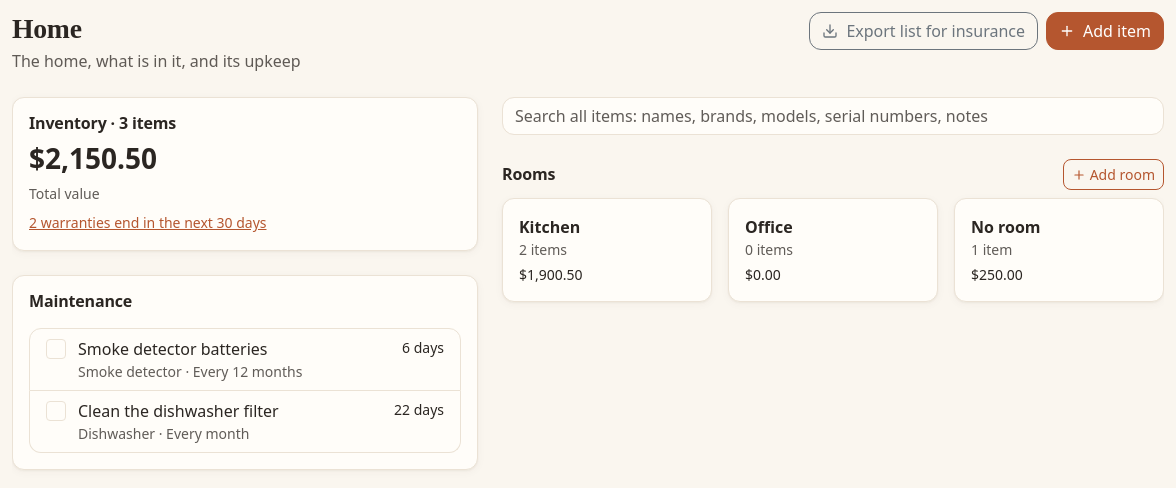
Test: HomePageComponent › for a user who can write › adds a room
The width and height of the screenshot is (1176, 488).
Click the button "Add room": {"x": 1113, "y": 175} [1063,159,1164,190]
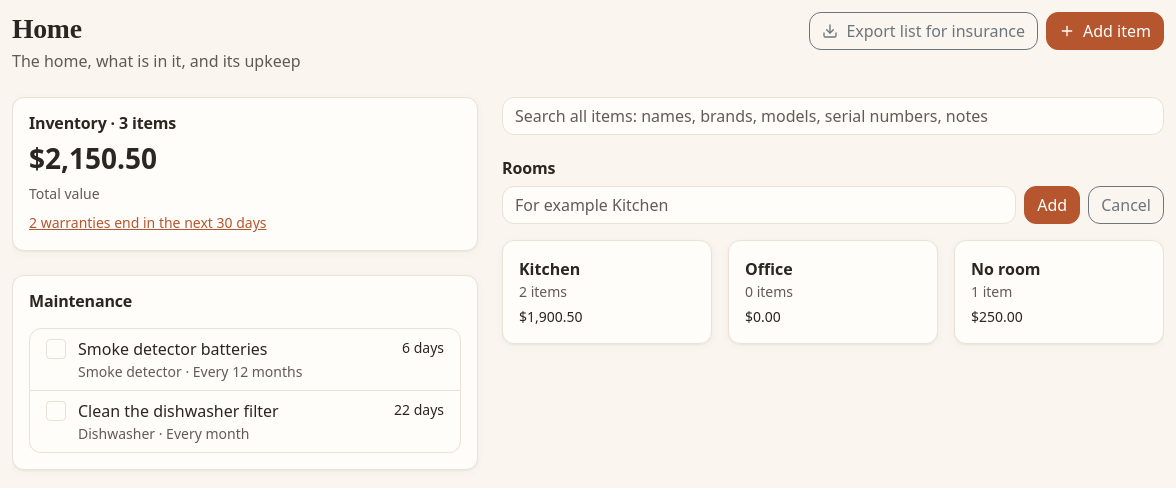
In the field with id "new-room": {"x": 759, "y": 205} [502,186,1016,224], type " Garage "
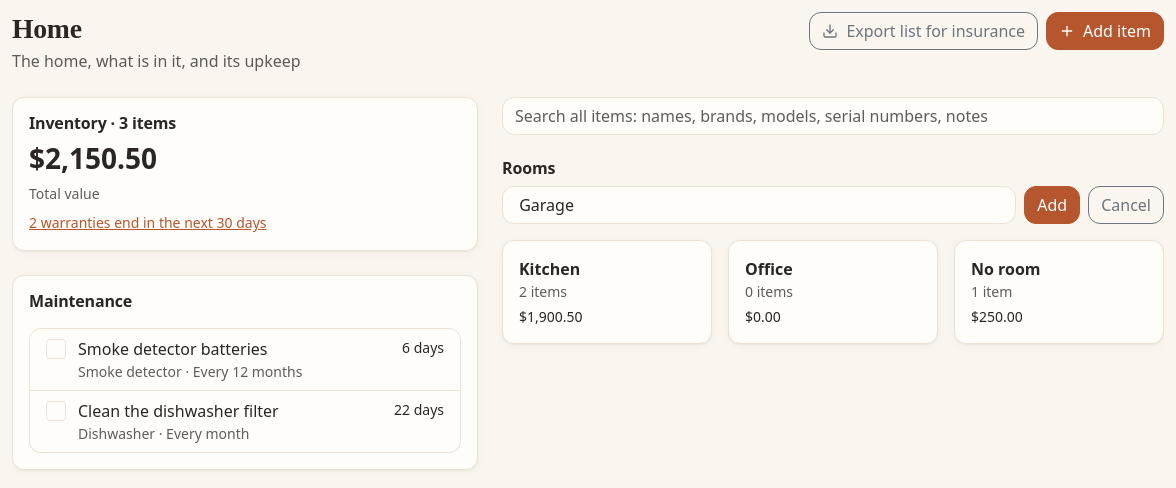
Click the submit button: {"x": 1052, "y": 205} [1024,186,1080,224]
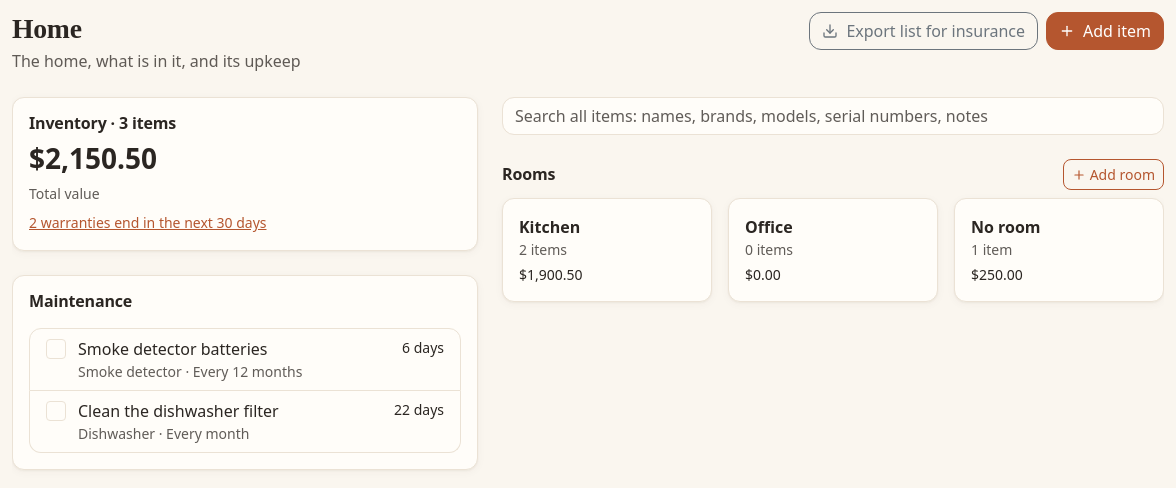
Check: the field with id "new-room" is gone
